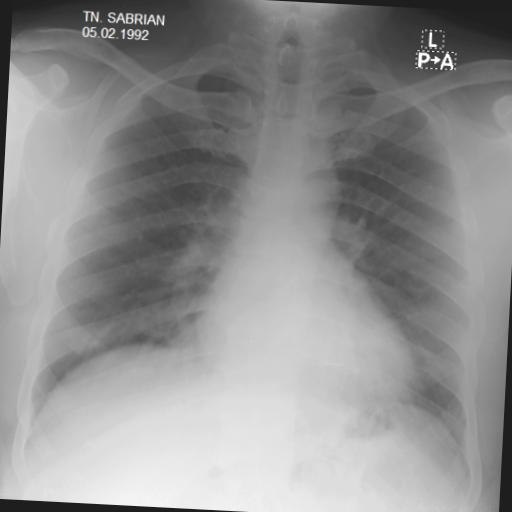kardiomegali: (16, 12, 504, 472)
